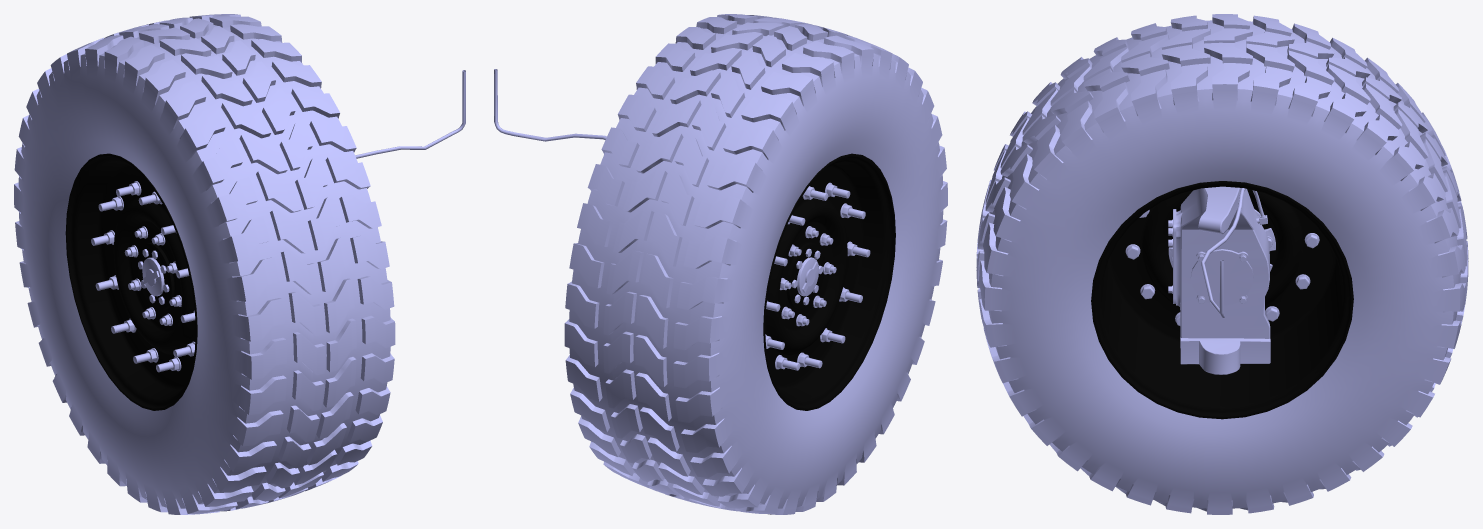
Rendered from wheel_BR.fbx.
3 renders of one model, left to right at view 1: azimuth 30°, elevation 25°; view 2: azimuth 150°, elevation 25°; view 3: azimuth 270°, elevation 25°, orthographic.
Visible parts, largest first — view 1: wheel003, brake_hose003; view 2: wheel003, brake_hose003; view 3: wheel003, brake003, brake_hose003.
Boxes of the visible parts, left/top/right/bottom form: wheel003: left=14, top=14, right=395, bottom=514; brake_hose003: left=355, top=70, right=465, bottom=158; wheel003: left=564, top=14, right=947, bottom=514; brake_hose003: left=494, top=69, right=606, bottom=141; wheel003: left=976, top=14, right=1468, bottom=514; brake003: left=1173, top=186, right=1270, bottom=374; brake_hose003: left=1201, top=188, right=1264, bottom=318.
Size of the model in its own units: 75.07 by 94.15 by 94.16.
